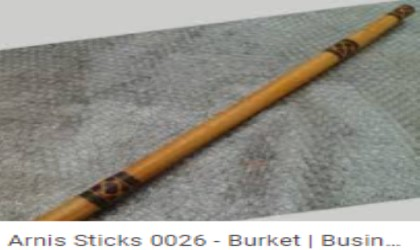baston_e: (99, 9, 372, 222)
baston_v: (22, 202, 77, 231), (385, 0, 417, 27)
